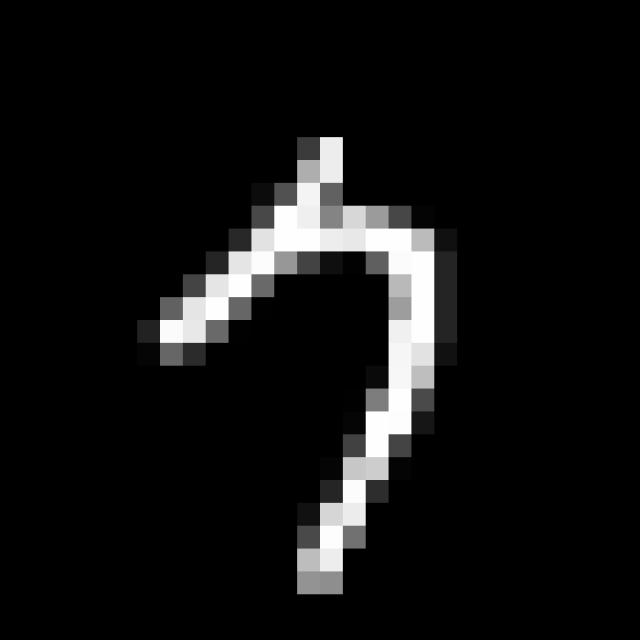seven -7-: (146, 130, 452, 599)
